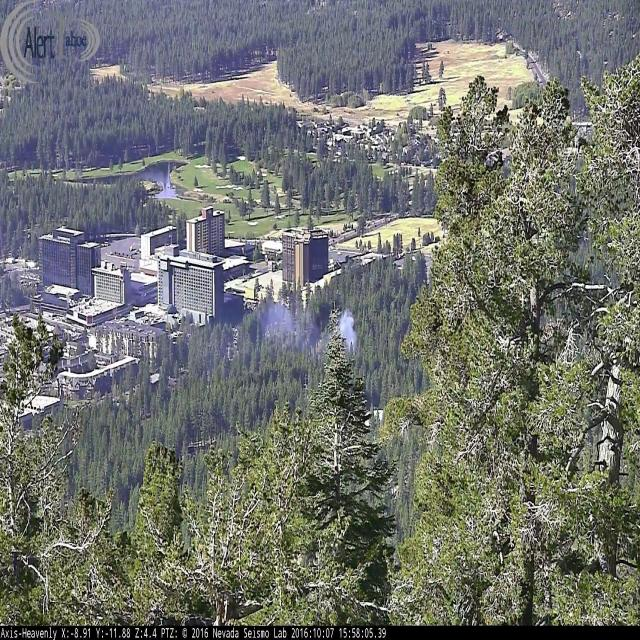smoke: (247, 284, 365, 362)
